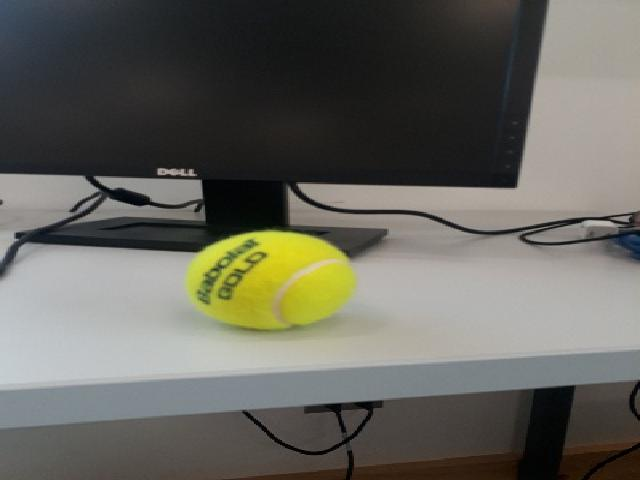Ball: (181, 227, 355, 330)
